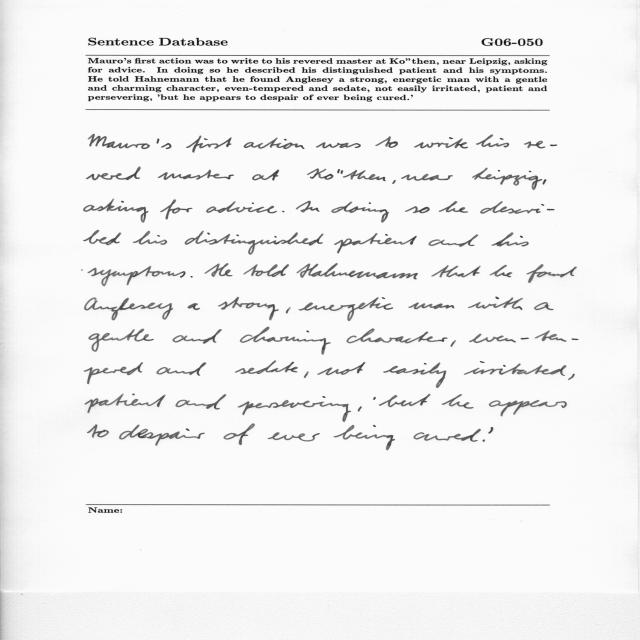word: (185, 231, 324, 255), (238, 396, 351, 422), (240, 327, 331, 355), (299, 297, 393, 321), (451, 330, 579, 347), (297, 263, 418, 280), (85, 298, 173, 321), (88, 266, 186, 286), (119, 424, 205, 446), (334, 233, 417, 253), (383, 363, 446, 388), (84, 199, 149, 223), (464, 361, 567, 376), (472, 168, 542, 190), (334, 425, 395, 450), (85, 394, 165, 413), (347, 329, 448, 344), (89, 329, 154, 352), (218, 297, 279, 320), (84, 363, 143, 385), (331, 201, 389, 223), (489, 400, 567, 416), (307, 168, 386, 181), (480, 201, 555, 214), (526, 264, 577, 283), (414, 429, 485, 442), (206, 202, 277, 214), (158, 169, 234, 180), (235, 361, 298, 374), (176, 394, 226, 410), (186, 136, 232, 153), (172, 329, 222, 344), (86, 167, 141, 180), (468, 297, 523, 310), (157, 362, 207, 376), (379, 394, 431, 407), (244, 138, 304, 149), (160, 200, 193, 220), (224, 424, 255, 445), (429, 234, 479, 247), (431, 265, 481, 278), (414, 137, 468, 149), (317, 362, 366, 375), (244, 264, 289, 277), (84, 230, 121, 245), (491, 233, 529, 247), (442, 394, 474, 409), (133, 231, 167, 245), (268, 433, 320, 442), (476, 135, 509, 148), (205, 263, 233, 277), (401, 174, 453, 181), (439, 201, 468, 213), (409, 303, 455, 310), (87, 424, 109, 438), (253, 170, 280, 181), (375, 136, 398, 148), (316, 143, 361, 149), (296, 201, 320, 212), (490, 265, 512, 277), (405, 207, 430, 214), (524, 141, 545, 149), (534, 302, 553, 310), (188, 303, 200, 310), (568, 374, 575, 380), (286, 307, 291, 314), (304, 371, 309, 378), (489, 427, 494, 434), (358, 406, 362, 412), (543, 180, 547, 185), (392, 180, 396, 184), (373, 397, 376, 400), (550, 145, 557, 146), (191, 276, 193, 278), (282, 211, 285, 212)
